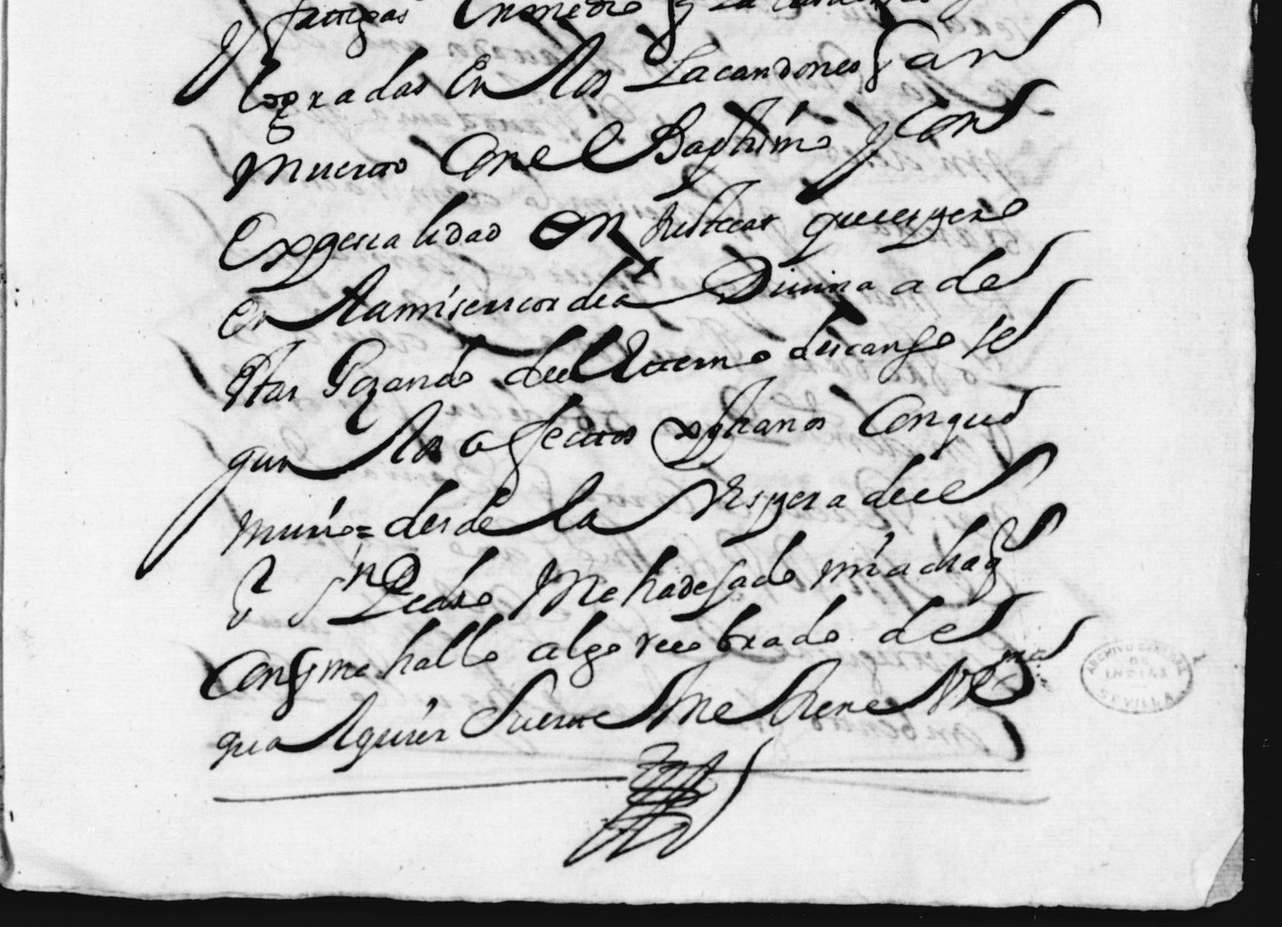lacandon: (623, 43, 861, 92)
